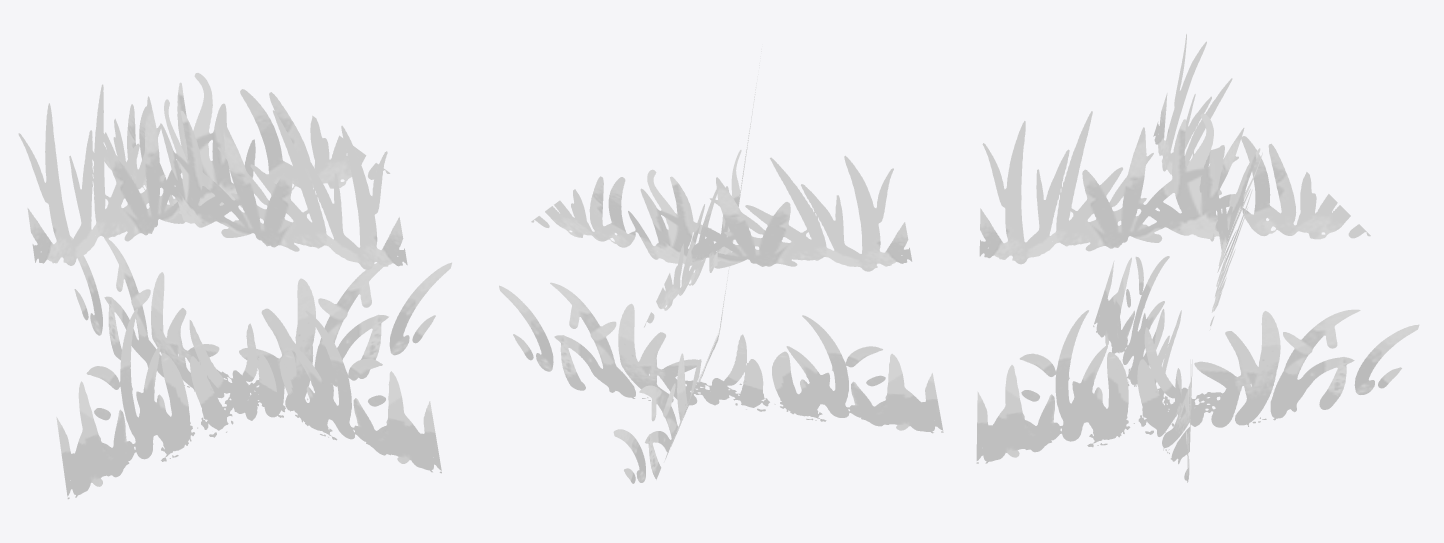
The model's file is FlowerMeadow2.fbx.
The picture shows the model from 3 angles, left to right: view 1: azimuth 30°, elevation 25°; view 2: azimuth 150°, elevation 25°; view 3: azimuth 270°, elevation 25°; orthographic projection. The views are drawn at different scales.
Visible parts, largest first — view 1: FlowerMeadow2; view 2: FlowerMeadow2; view 3: FlowerMeadow2.
Part boxes in pixels (bbox=[...]): FlowerMeadow2: bbox=[18, 73, 451, 499]; FlowerMeadow2: bbox=[499, 49, 943, 483]; FlowerMeadow2: bbox=[976, 34, 1419, 482].
Bounding box in the file's own units: 51.32 × 44.36 × 50.37.
